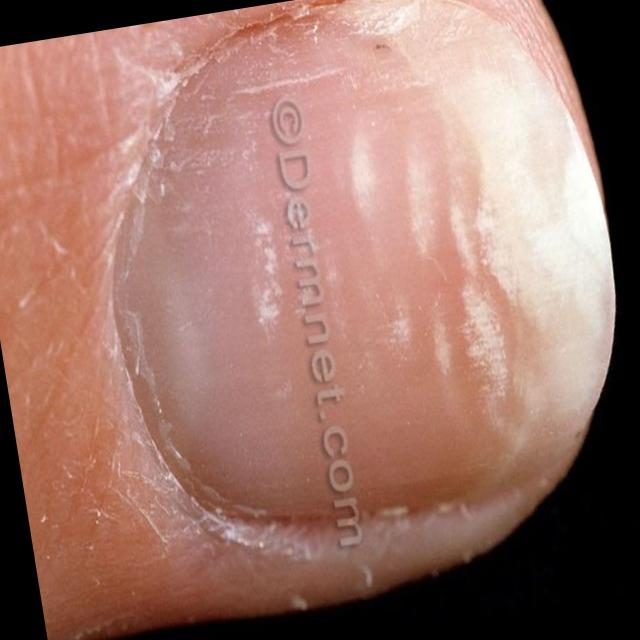Nail: (116, 5, 612, 523)
